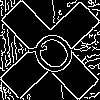Q: (25, 25, 87, 87)
